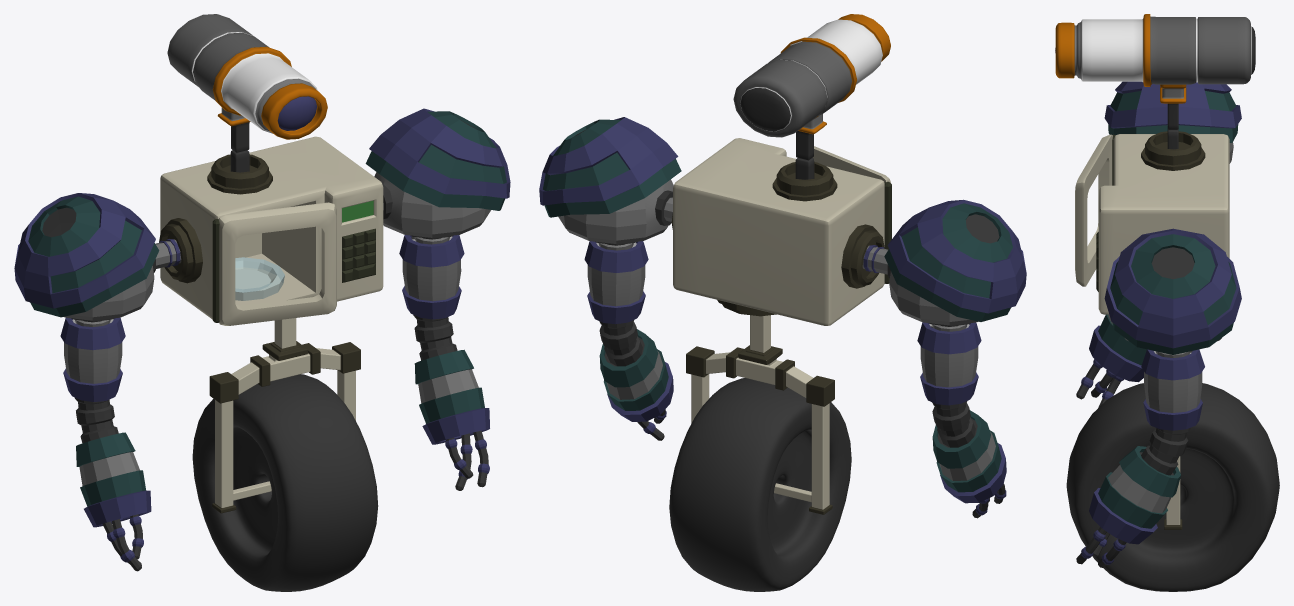
The model's file is npcRobo7.fbx.
3 renders of one model, left to right at view 1: azimuth 30°, elevation 25°; view 2: azimuth 150°, elevation 25°; view 3: azimuth 270°, elevation 25°, orthographic.
Visible parts, largest first — view 1: npcRobo7; view 2: npcRobo7; view 3: npcRobo7.
Part boxes in pixels (<box>): npcRobo7: <box>14,14,510,591</box>; npcRobo7: <box>539,14,1026,591</box>; npcRobo7: <box>1055,14,1279,591</box>.
Bounding box in the file's own units: 63.06 × 69.44 × 26.2.
